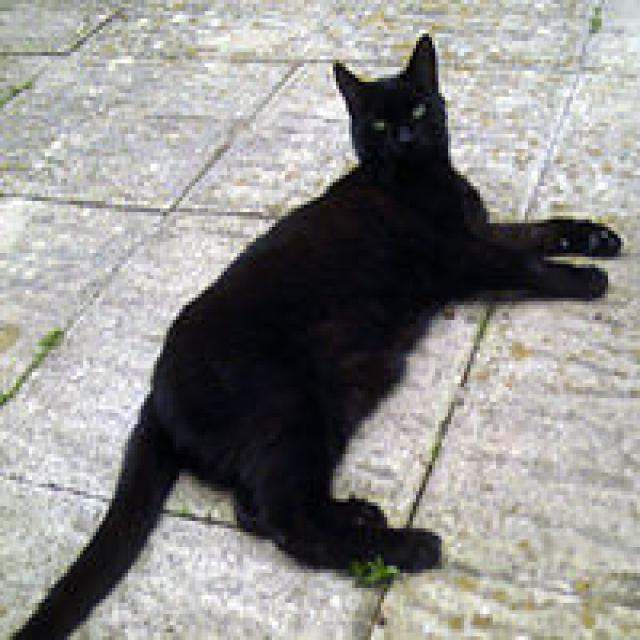Bombay: (330, 30, 439, 167)
